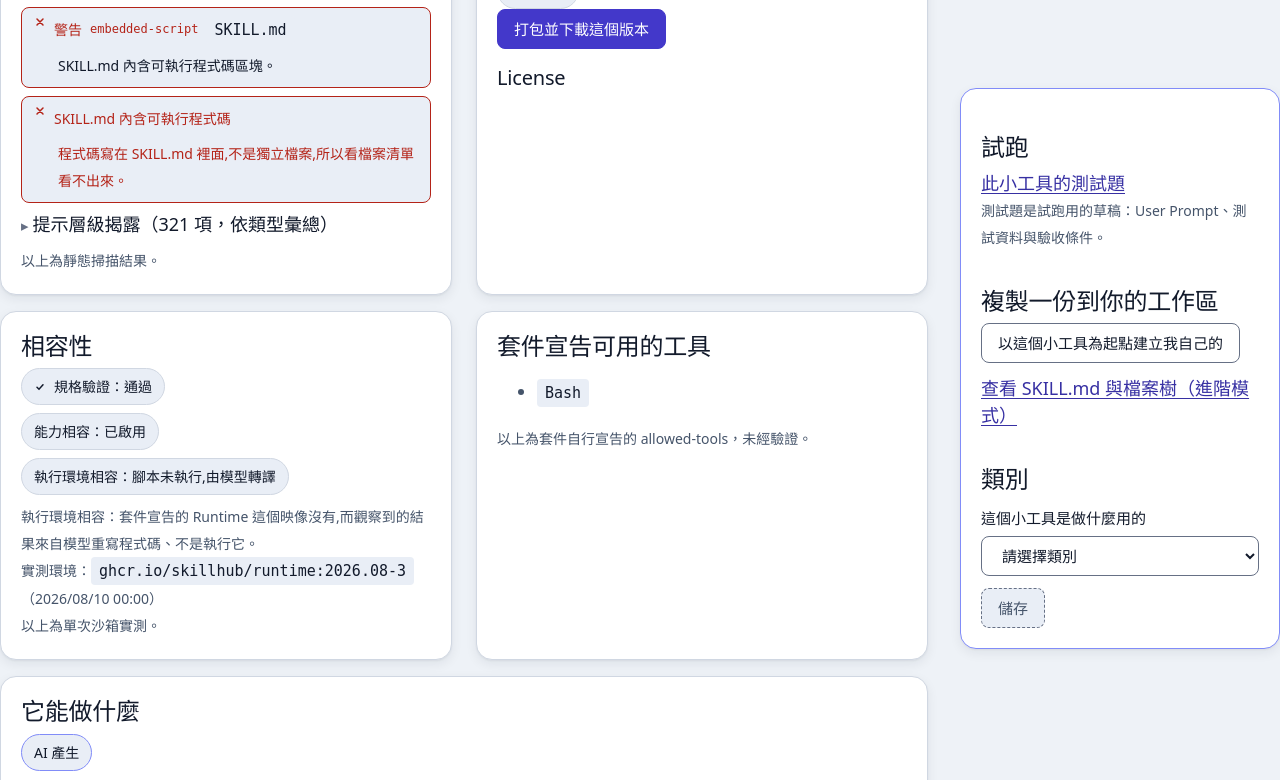
Scenario: 無法辨識最近的類別時要求明確選擇，不將未知值送給伺服器
(page scrolled)
Expected: the dropdown with id "skill-category" shows "請選擇類別", [981, 536, 1259, 576]
Expected: the button "儲存" is disabled, [981, 588, 1045, 628]
Submit the form with id "skill-category", box [981, 505, 1259, 628]
Select "尚未定值" in the dropdown with id "skill-category" at point(1120, 556), box [981, 536, 1259, 576]
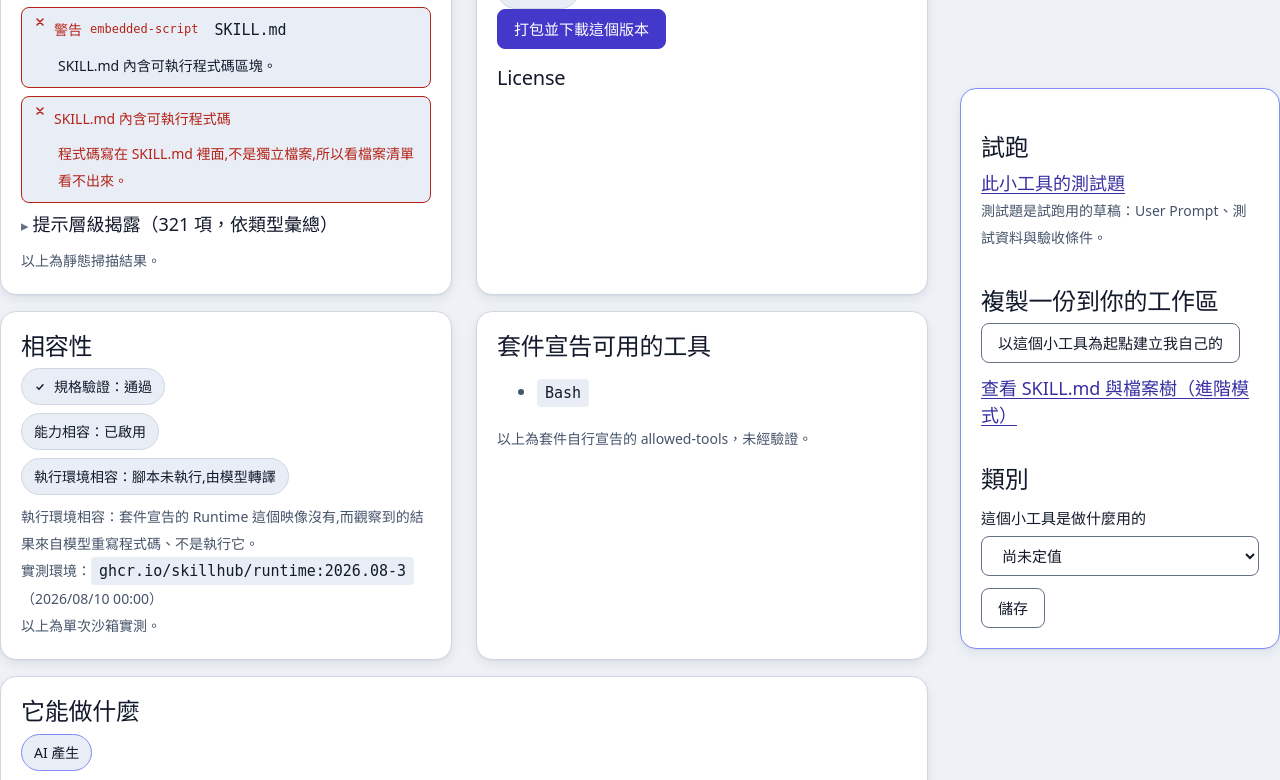
Now the button "儲存" is enabled, box [981, 588, 1045, 628]
